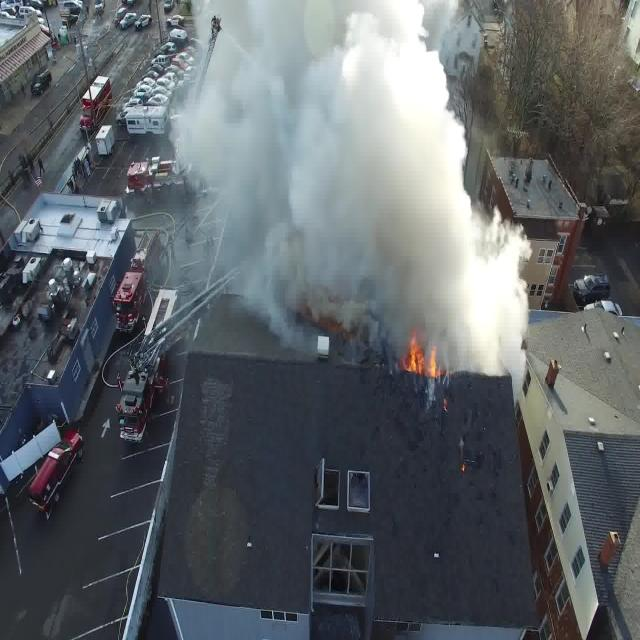Fire: (404, 332, 454, 383)
Smoke: (174, 0, 522, 400)
